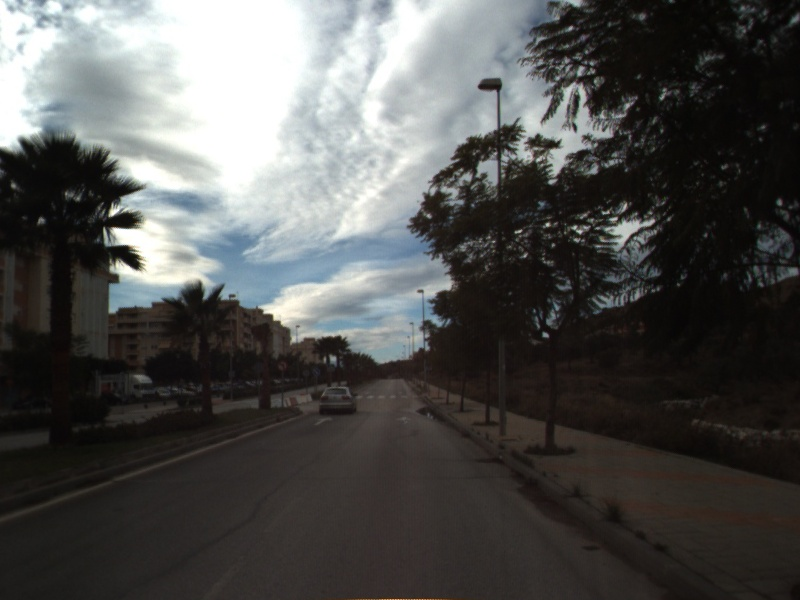STRAIGHT: (312, 415, 335, 427)
